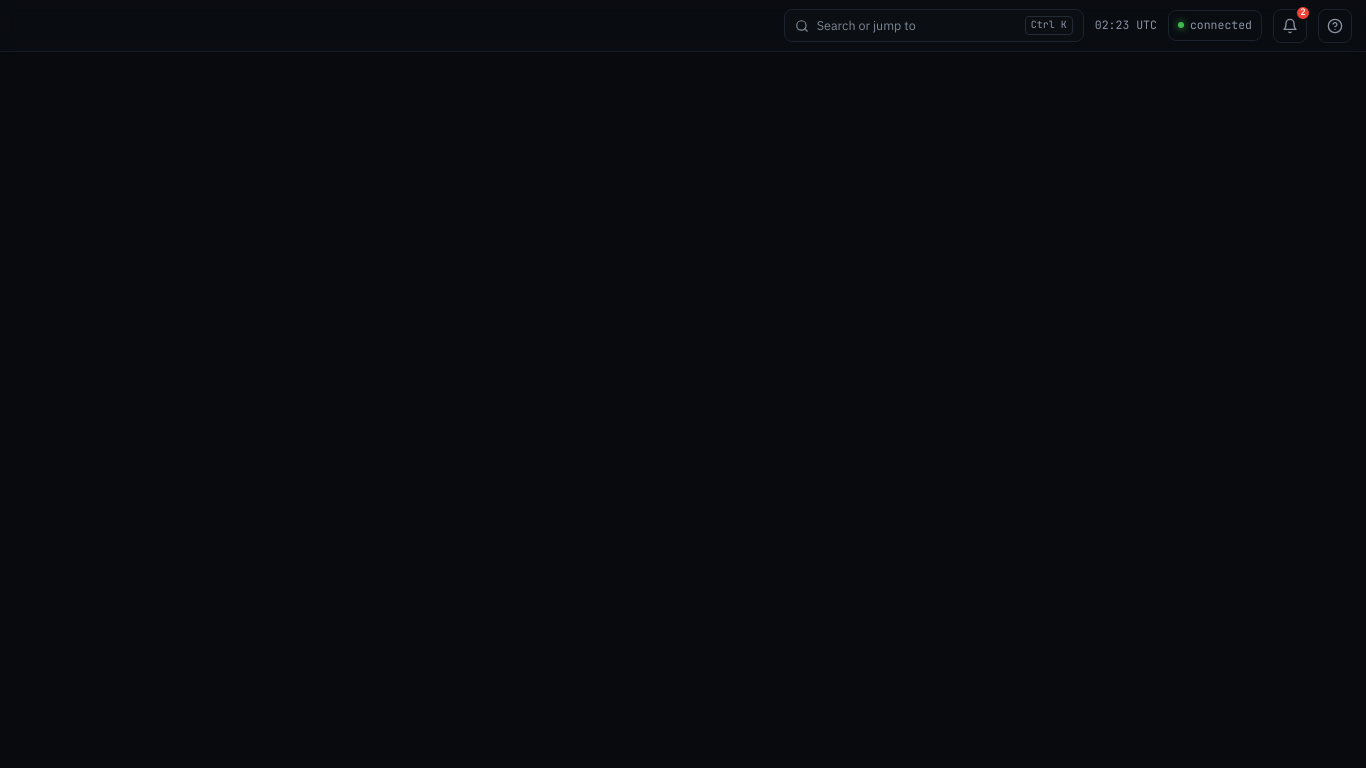
Scenario: Topbar notification rows are reachable from the keyboard › keeps Dismiss a separate target and leaves a row with nowhere to go inert
Step 1. Click the button named "Notifications" → coordinates (1290, 26), box [1273,8,1307,42]
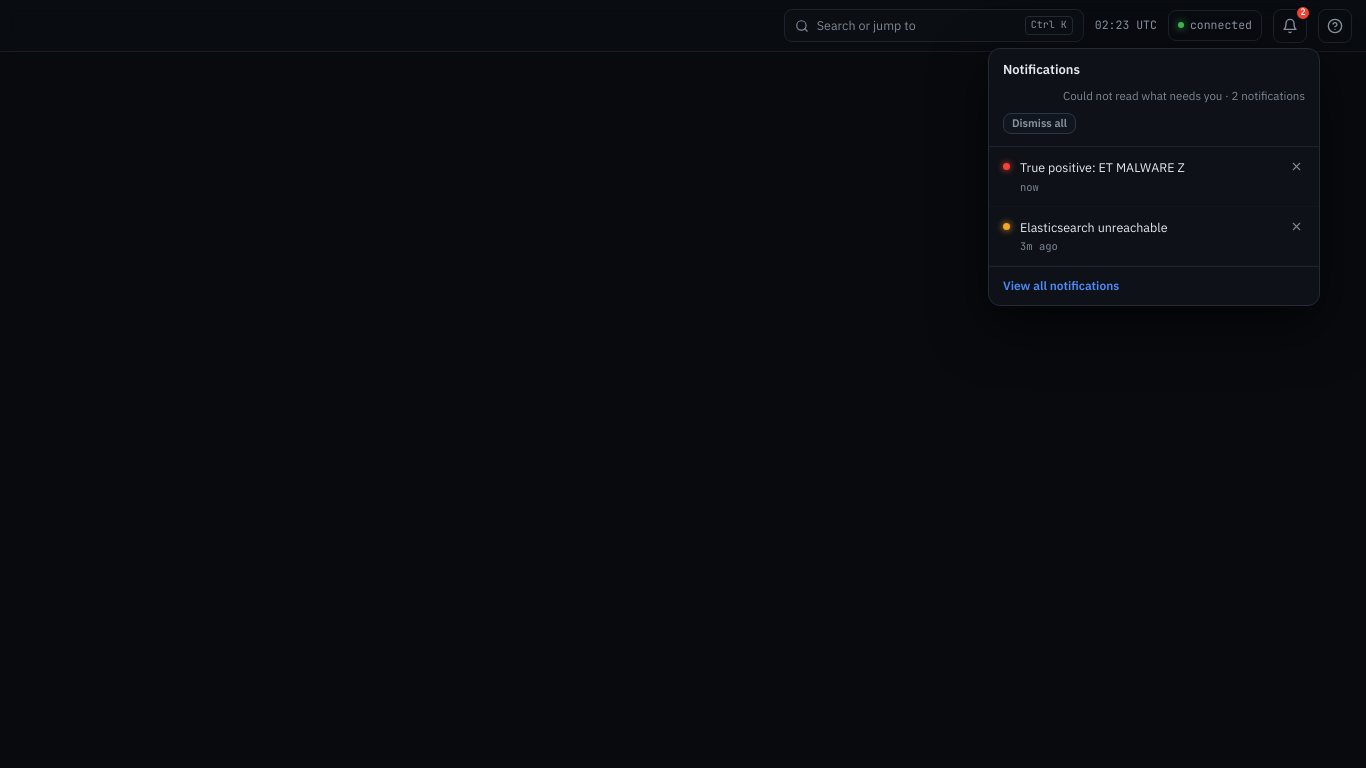
Result: the text "Elasticsearch unreachable" is shown at [1020,219,1168,235]
Step 2. Click the 1st button named "Dismiss" → coordinates (1296, 167), box [1288,158,1305,176]
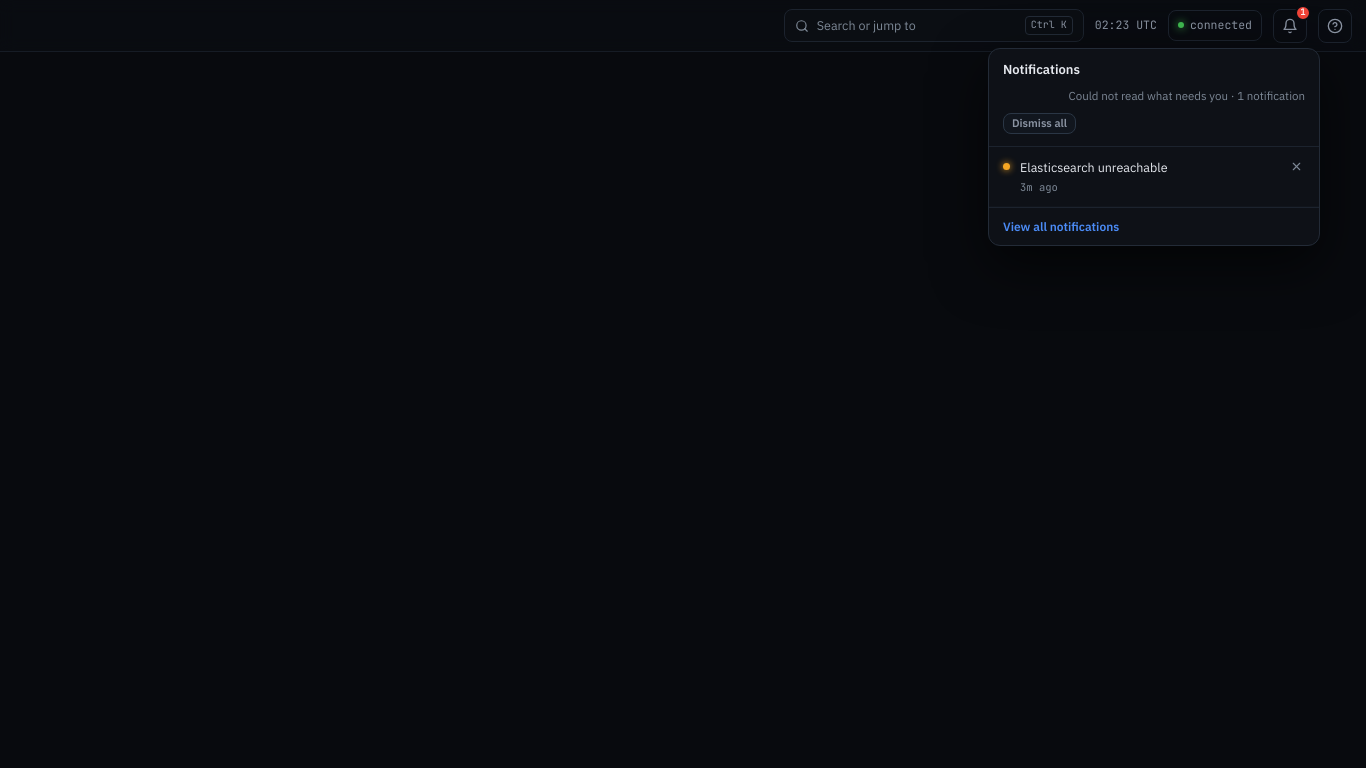
Result: the button "True positive: ET MALWARE Z" is gone
